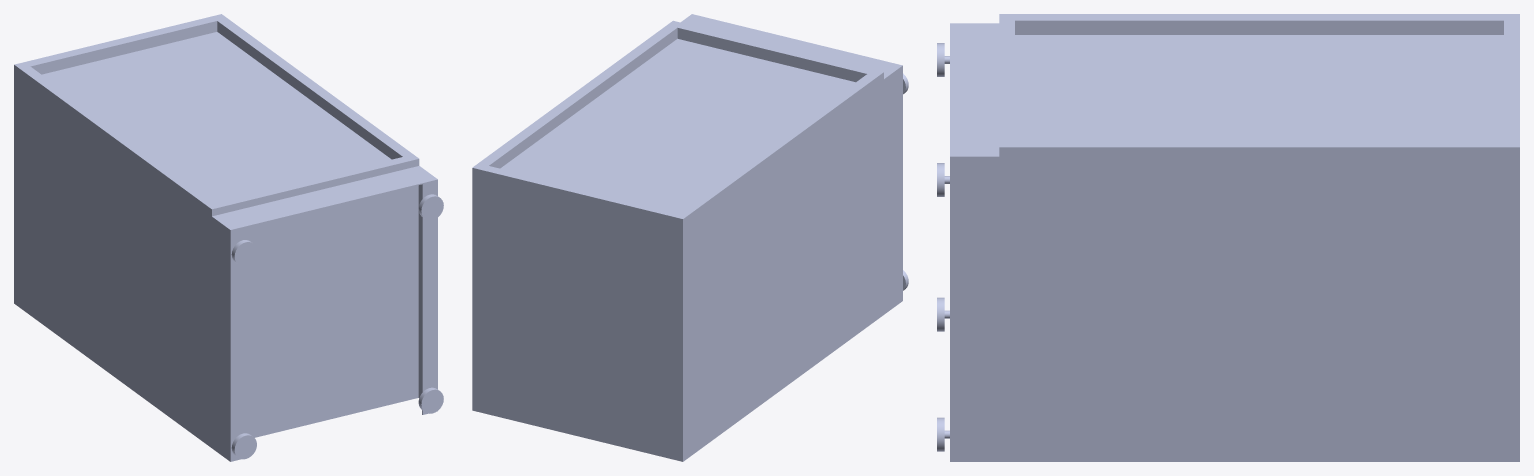
File: 1 Door base cabinet - 20in.y.fbx
3 views of the same model, side by side, from view 1: azimuth 30°, elevation 25°; view 2: azimuth 150°, elevation 25°; view 3: azimuth 270°, elevation 25° (orthographic). The views are drawn at different scales.
Parts seen in each view (by area): view 1: Body_1; view 2: Body_1; view 3: Body_1.
Part boxes in pixels (x1,y1,x2,y2): Body_1: (14, 14, 443, 461); Body_1: (472, 14, 908, 461); Body_1: (937, 14, 1519, 461).
Bounding box in the file's own units: 0.5122 × 0.9382 × 0.5588.
